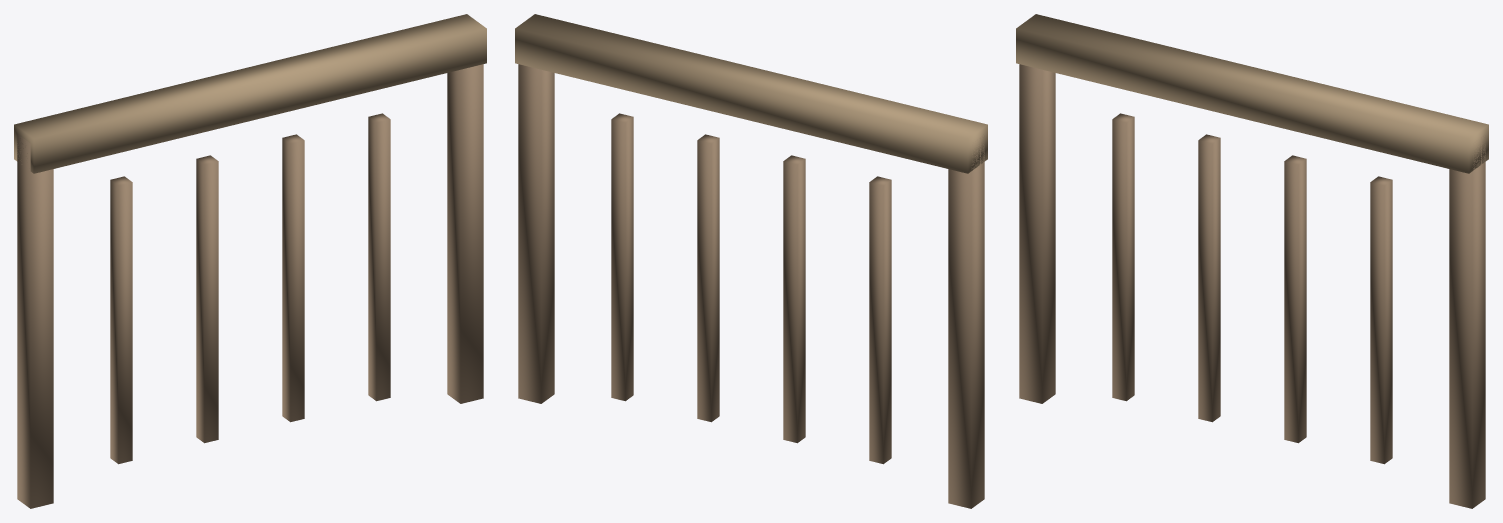
File: court_rail__tall.glb
3 renders of one model, left to right at view 1: azimuth 30°, elevation 25°; view 2: azimuth 150°, elevation 25°; view 3: azimuth 330°, elevation 25°, orthographic.
Visible parts, largest first — view 1: world; view 2: world; view 3: world.
Boxes of the visible parts, box(x1,y1,x2,y2) form: world: box(14, 14, 486, 508); world: box(515, 14, 987, 508); world: box(1016, 14, 1488, 508).
Size of the model in its own units: 1.58 by 1.24 by 0.12.
